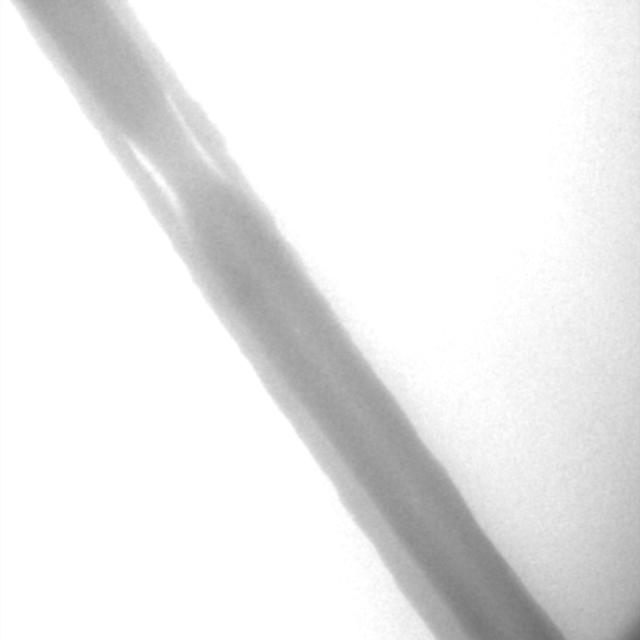unfused: (123, 100, 218, 216)
